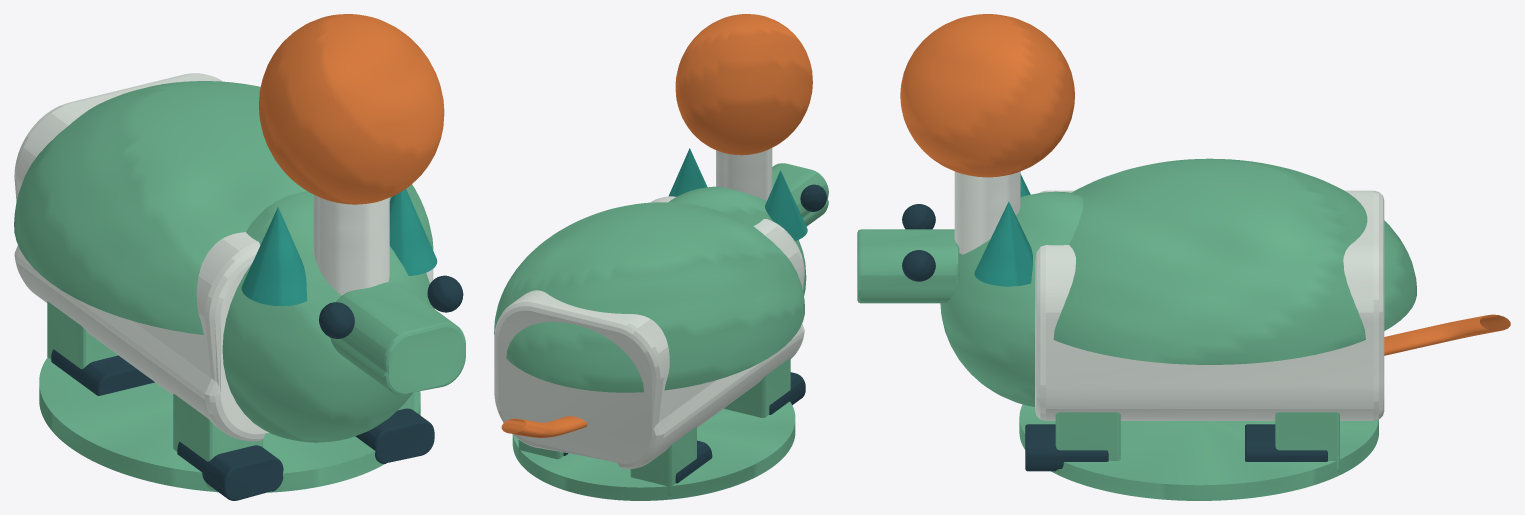
File: 0151_恐龙图鉴_棘龙.glb
The picture shows the model from 3 angles, left to right: view 1: azimuth 30°, elevation 25°; view 2: azimuth 150°, elevation 25°; view 3: azimuth 270°, elevation 25°; orthographic projection. The views are drawn at different scales.
Visible parts, largest first — view 1: card_0151; view 2: card_0151; view 3: card_0151.
Boxes of the visible parts, x1,y1,x2,y2 form: card_0151: [14, 14, 465, 500]; card_0151: [494, 14, 828, 500]; card_0151: [857, 14, 1510, 500].
Size of the model in its own units: 0.7573 by 1 by 1.43.
